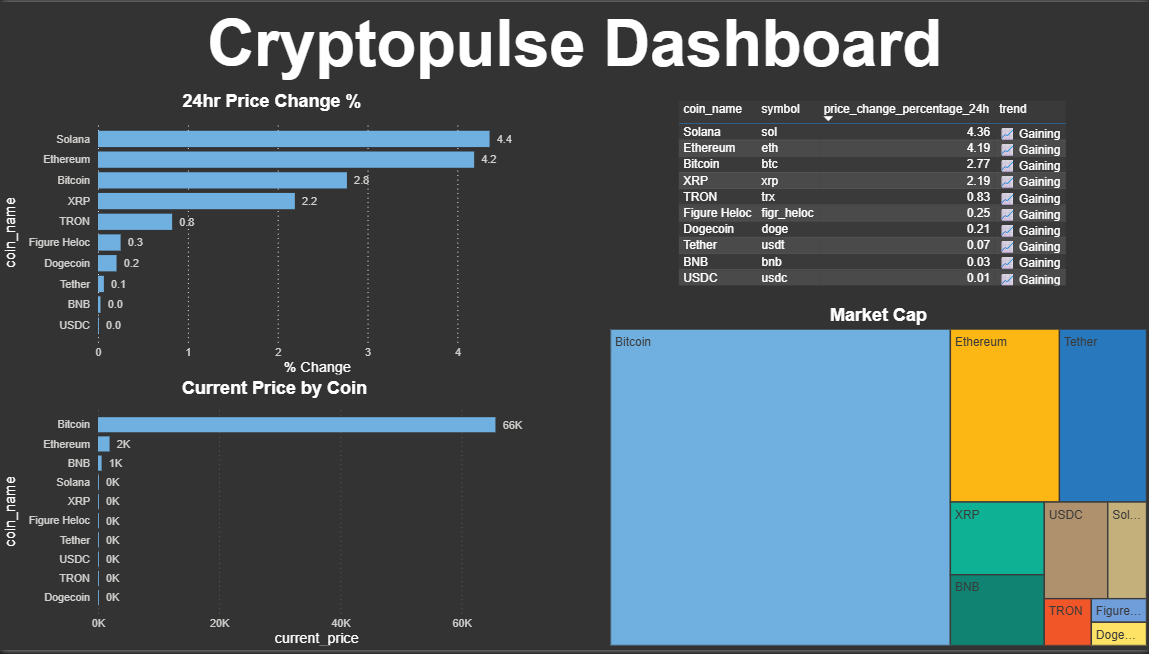

Layout of this report page (visuals, bound fields, positions):
{"tool":"powerbi","page":{"name":"CryptoPulse Dashboard","canvas":[1280,720],"ordinal":0},"visuals":[{"type":"clusteredBarChart","title":"Current Price by Coin","fields":{"Category":["gold_crypto_performance.coin_name"],"Y":["Sum(gold_crypto_performance.current_price)"]},"box":[0,417.8,612.2,302.2],"z":0},{"type":"clusteredBarChart","title":"24hr Price Change %","fields":{"Category":["gold_crypto_performance.coin_name"],"Y":["Sum(gold_crypto_performance.price_change_percentage_24h)"]},"box":[0,98.9,606.7,320],"z":1000},{"type":"treemap","title":"Market Cap","fields":{"Group":["gold_crypto_performance.coin_name"],"Values":["Sum(gold_crypto_performance.market_cap)"]},"box":[674.4,336.7,605.6,383.3],"z":2000},{"type":"tableEx","fields":{"Values":["gold_crypto_performance.coin_name","gold_crypto_performance.symbol","Avg(gold_crypto_performance.price_change_performance_24hrs)","gold_crypto_performance.trend"]},"box":[743.3,98.9,467.8,237.8],"z":3000},{"type":"textbox","box":[106.7,0,1065.6,98.9],"z":4000}]}

Visuals, with their boxes in screenshot pixels (x1, y1, x2, y2), scaled from the page's 1280x720 canvas onto the 1149x654 screenshot:
"Current Price by Coin" clusteredBarChart: left=0, top=380, right=550, bottom=653
"24hr Price Change %" clusteredBarChart: left=0, top=90, right=545, bottom=381
"Market Cap" treemap: left=605, top=306, right=1148, bottom=653
tableEx - gold_crypto_performance.coin_name x gold_crypto_performance.symbol: left=667, top=90, right=1087, bottom=306
textbox: left=96, top=0, right=1052, bottom=90
